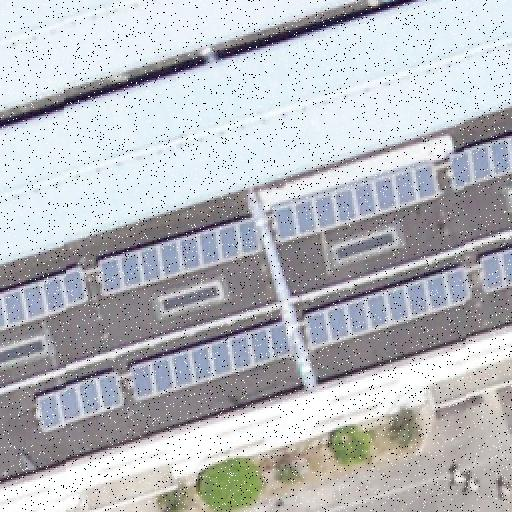solar-panel: (302, 264, 474, 348), (129, 319, 295, 401), (271, 162, 441, 242), (97, 216, 263, 292), (1, 263, 95, 329), (33, 365, 127, 427), (448, 135, 512, 185), (480, 246, 512, 286)
